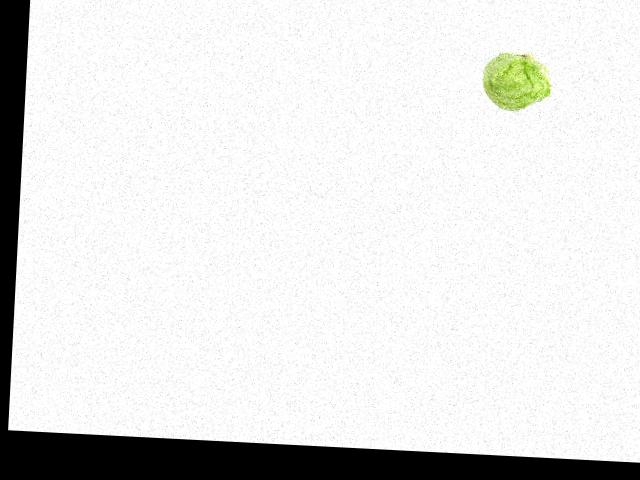lettuce: (474, 51, 560, 119)
